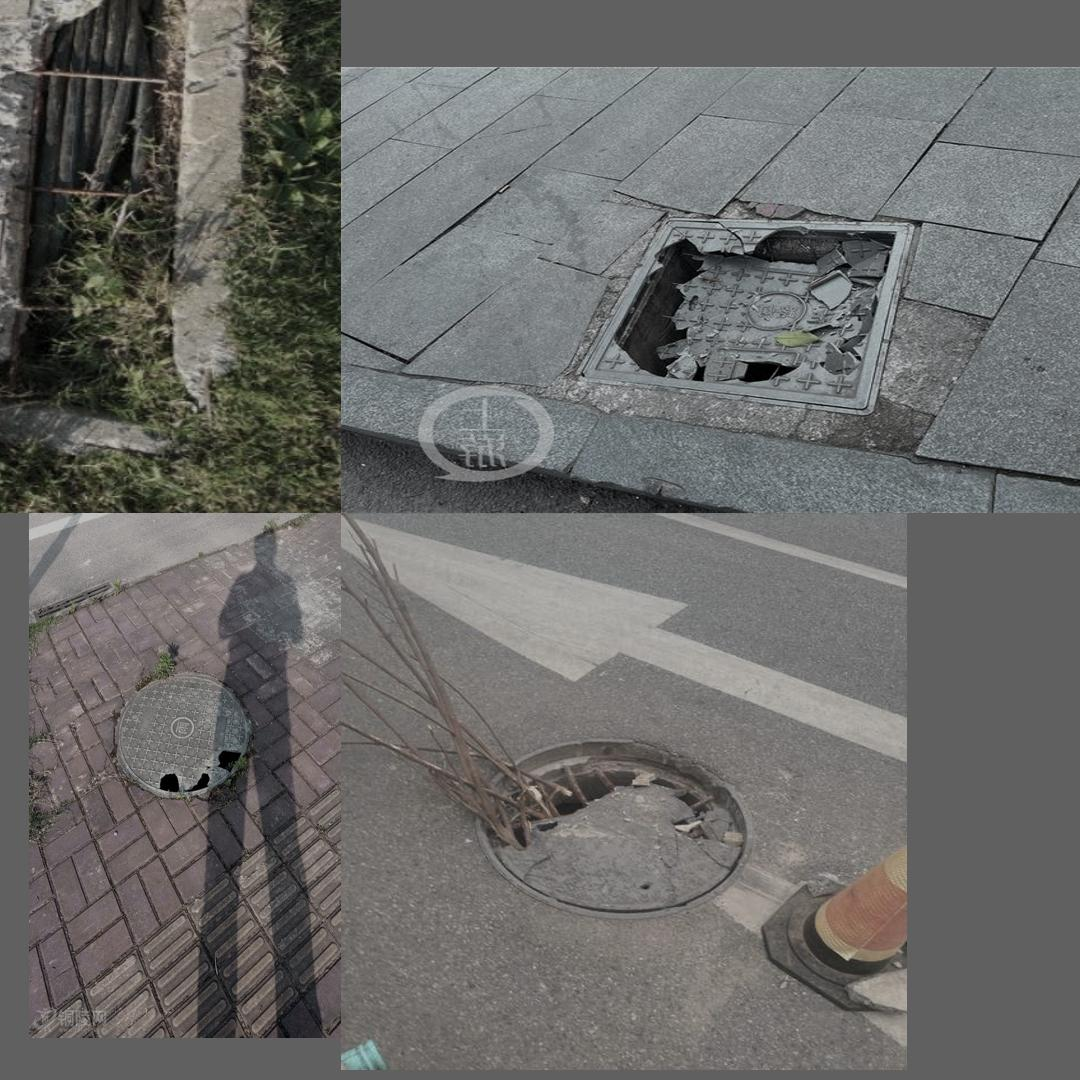broke: (0, 0, 254, 451), (529, 201, 975, 406), (456, 722, 764, 920), (107, 661, 260, 805)
